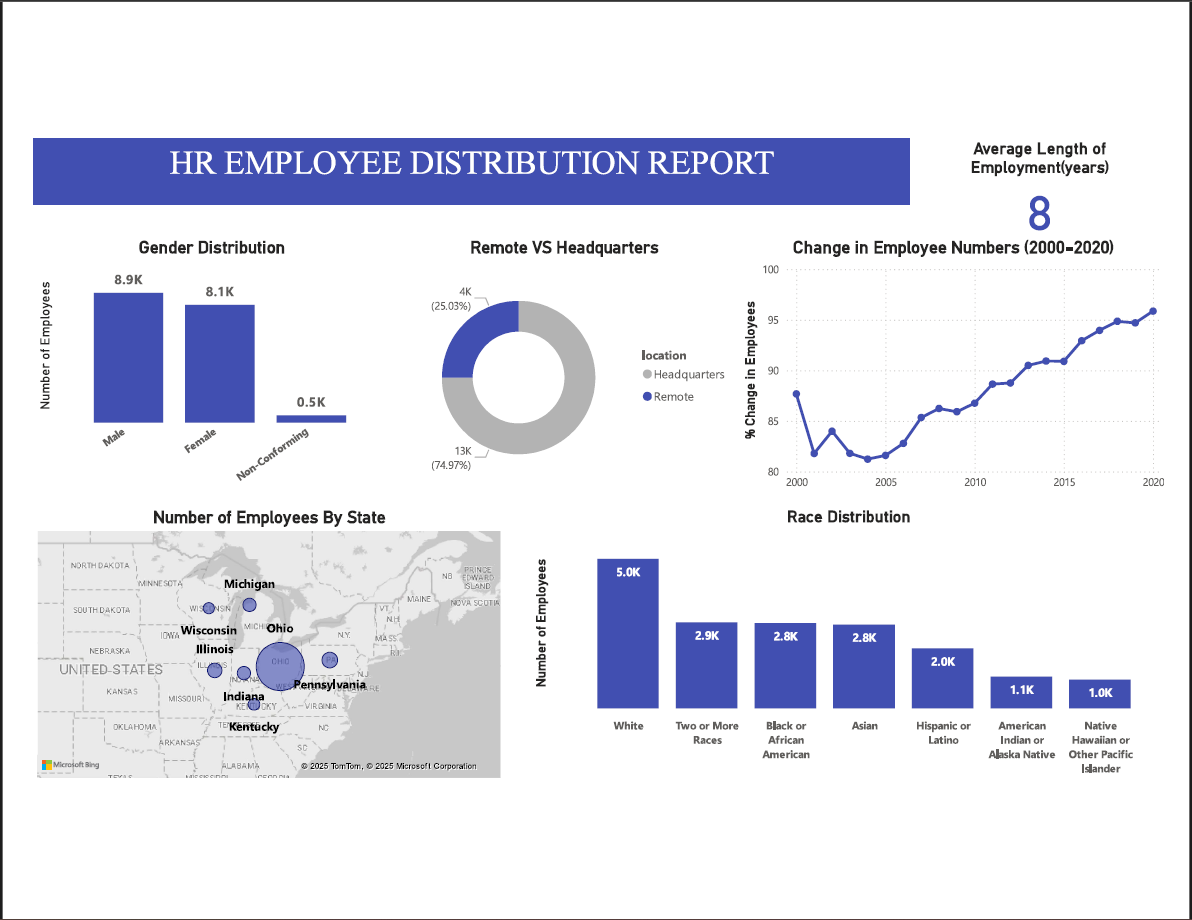

This screenshot's page, from the dashboard's own definition file:
{"tool":"powerbi","page":{"name":"Page 1","canvas":[1280,720],"ordinal":0},"visuals":[{"type":"textbox","box":[9.6,0,982.5,72.7],"z":0},{"type":"card","title":"Average Length of Employment(years)","fields":{"Values":["Sum(avg_length_employment.avg_len_employment)"]},"box":[991.7,0,288.6,110.1],"z":1000},{"type":"columnChart","title":"Gender Distribution","fields":{"Category":["gender distribution.gender"],"Y":["Sum(gender distribution.count)"]},"box":[9.8,110.1,399.9,292.3],"z":2000},{"type":"donutChart","title":"Remote VS Headquarters","fields":{"Category":["location.location"],"Y":["Sum(location.count)"]},"box":[409.6,110.1,388.9,292.3],"z":3000},{"type":"lineChart","title":"Change in Employee Numbers (2000-2020)","fields":{"Category":["net_change of employees over time.year"],"Y":["Sum(net_change of employees over time.net_change_percent)"]},"box":[798.5,110.1,481.8,292.3],"z":4000},{"type":"map","title":"Number of Employees By State","fields":{"Size":["Sum(employee distribution by state.count)"],"Category":["employee distribution by state.location_state"]},"box":[9.8,412.1,528.3,308.2],"z":5000},{"type":"clusteredColumnChart","title":"Race Distribution","fields":{"Category":["race distribution.race"],"Y":["Sum(race distribution.count)"]},"box":[564.9,412.1,715.4,308.2],"z":6000}]}

Visuals, with their boxes on the page's 1280x720 design canvas (x1, y1, x2, y2). These are canvas units, not pixel positions in the 1192x920 screenshot, which may show the page scaled, cropped or inside an application window:
textbox: bbox=[10, 0, 992, 73]
"Average Length of Employment(years)" card: bbox=[992, 0, 1280, 110]
"Gender Distribution" columnChart: bbox=[10, 110, 410, 402]
"Remote VS Headquarters" donutChart: bbox=[410, 110, 798, 402]
"Change in Employee Numbers (2000-2020)" lineChart: bbox=[798, 110, 1280, 402]
"Number of Employees By State" map: bbox=[10, 412, 538, 720]
"Race Distribution" clusteredColumnChart: bbox=[565, 412, 1280, 720]
